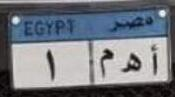1: (43, 48, 61, 82)
alif: (146, 42, 165, 77)
haa: (120, 50, 145, 76)
meem: (97, 48, 116, 80)
